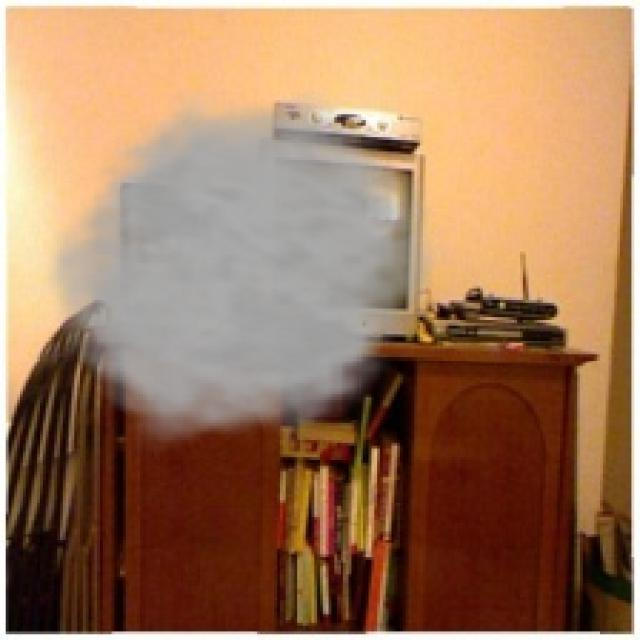Smoke: (34, 92, 454, 457)
